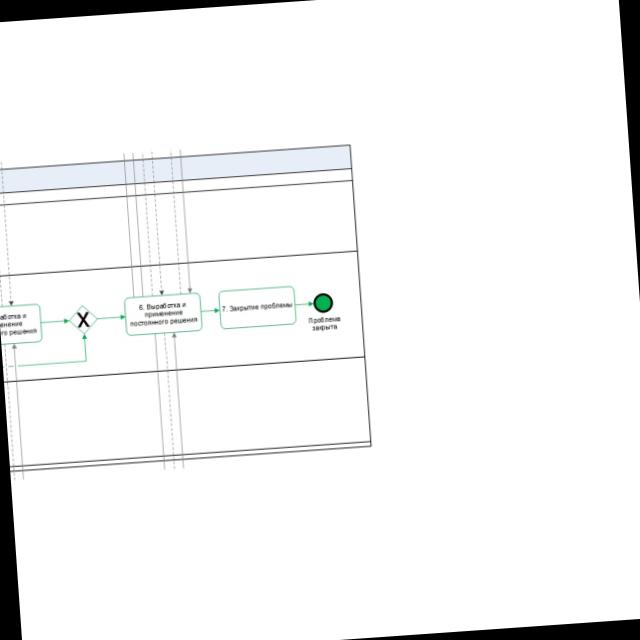arrow: (41, 316, 70, 326), (97, 312, 126, 322), (296, 300, 314, 309), (201, 306, 220, 314)
circle: (310, 291, 336, 316)
diamond: (68, 305, 98, 335)
rectangle: (123, 292, 202, 337), (218, 287, 297, 328)
text_region: (307, 314, 342, 332)
